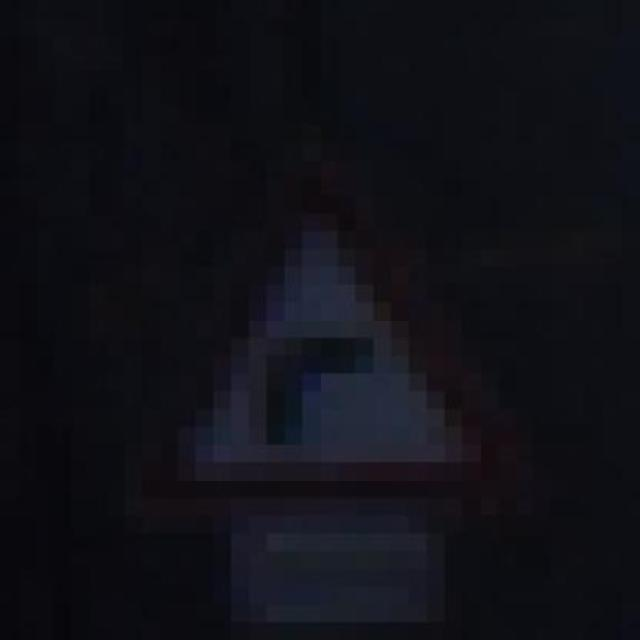Dangerous Rright Curve Ahead: (124, 124, 551, 551)
